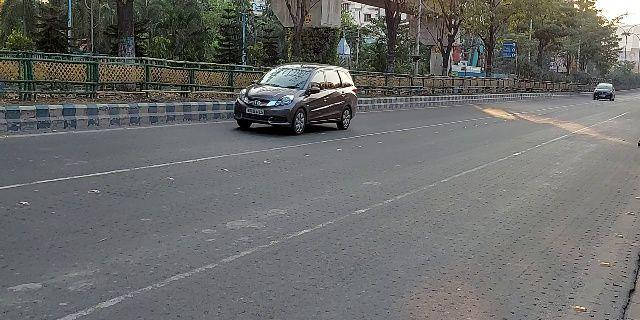Car: (226, 57, 360, 139), (587, 77, 618, 104)
